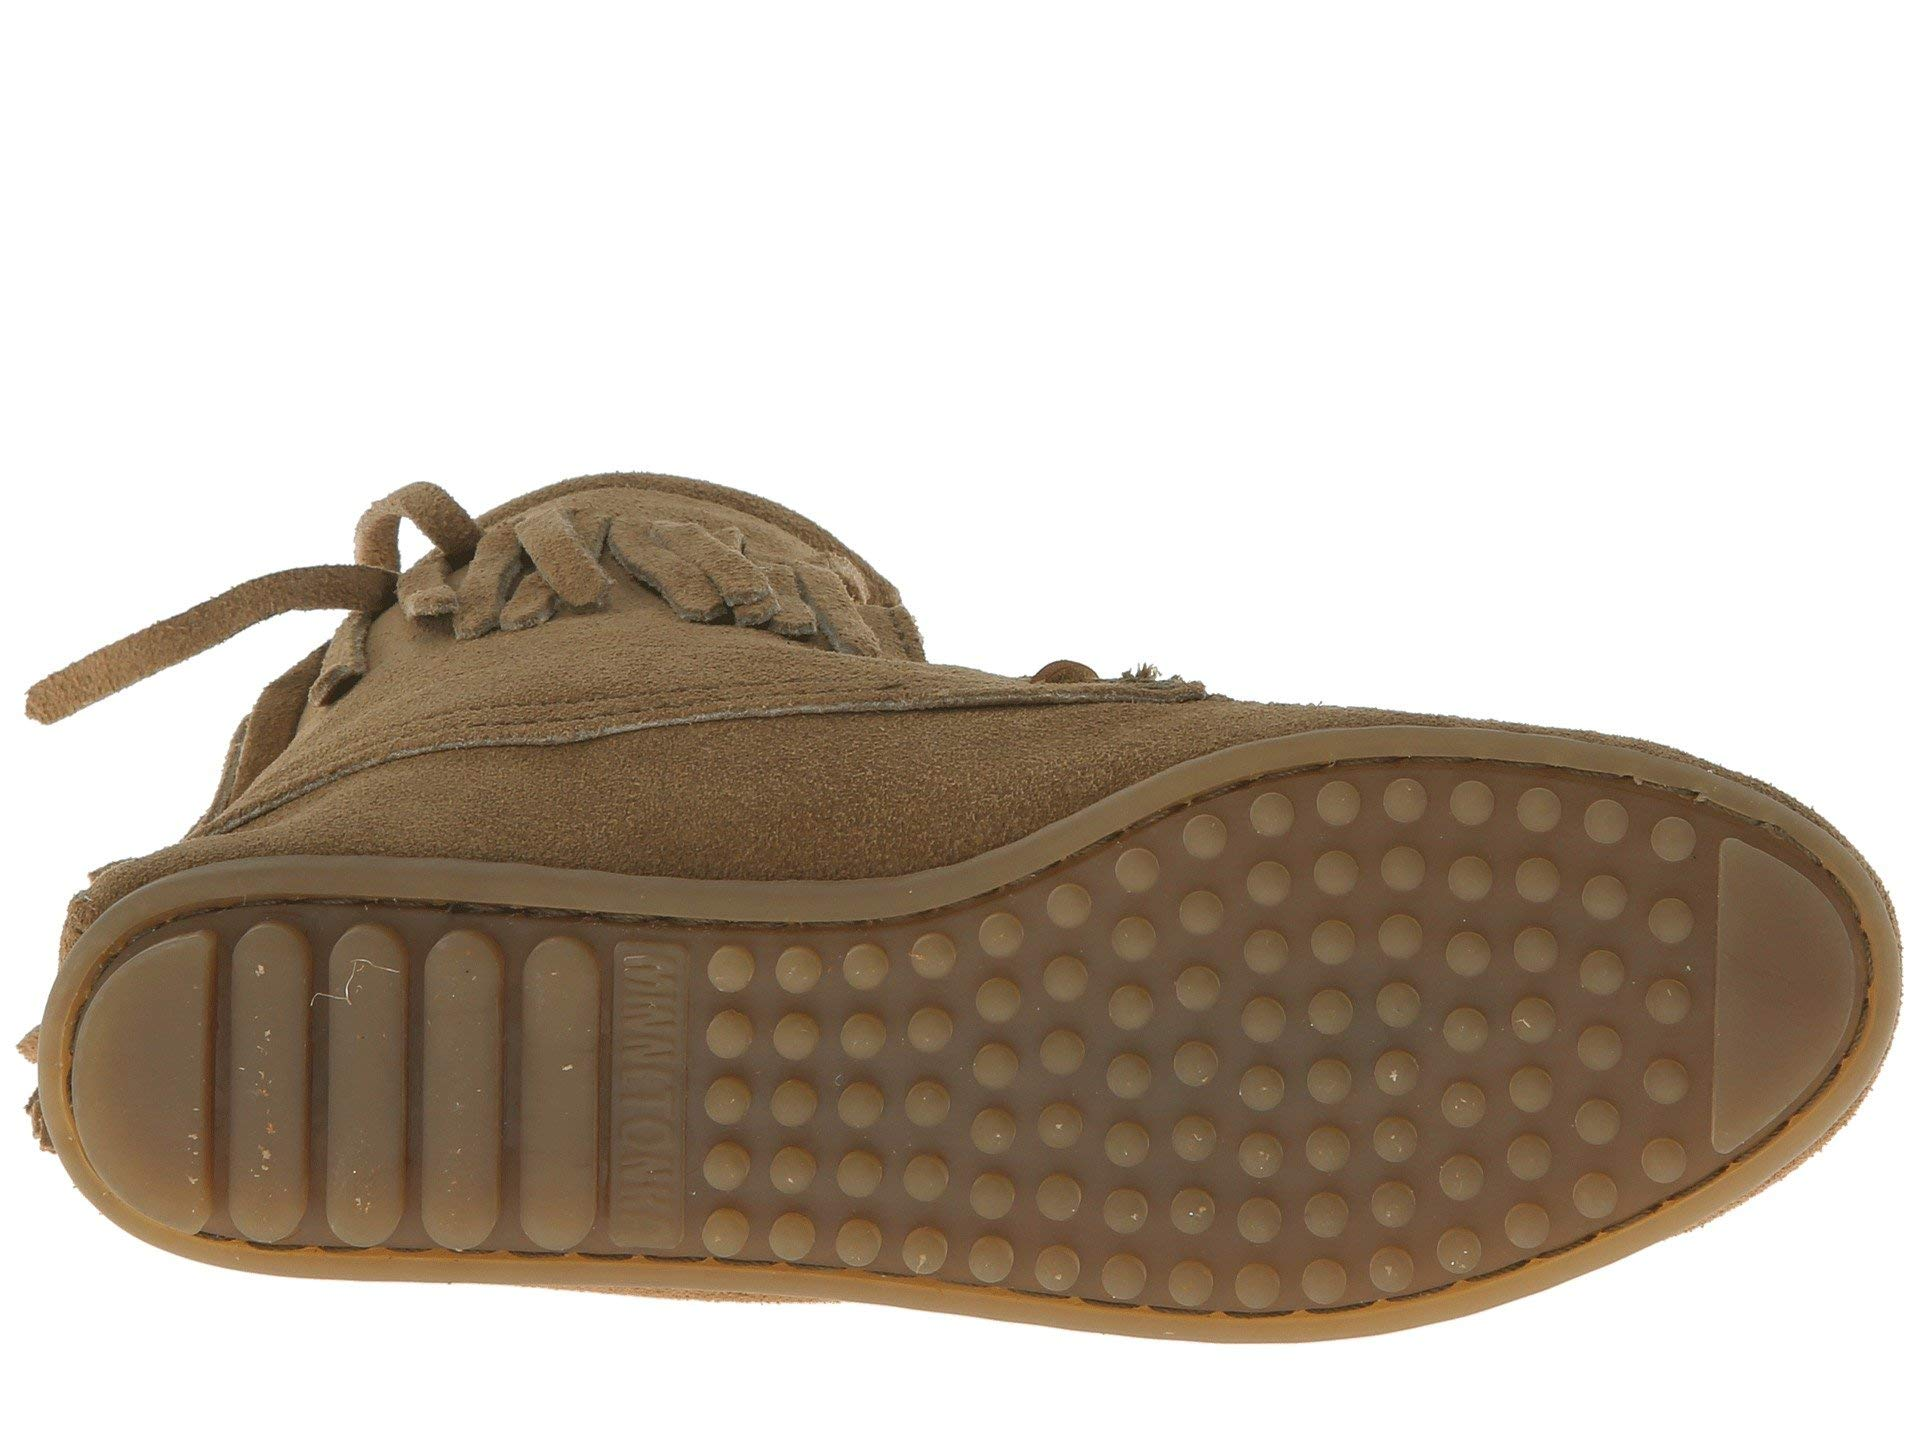circle: (1072, 821, 1639, 1230), (603, 930, 698, 1252)
line: (1072, 821, 1639, 1230)
quad: (171, 905, 532, 1243), (603, 930, 698, 1252)
text: (603, 930, 698, 1252)
